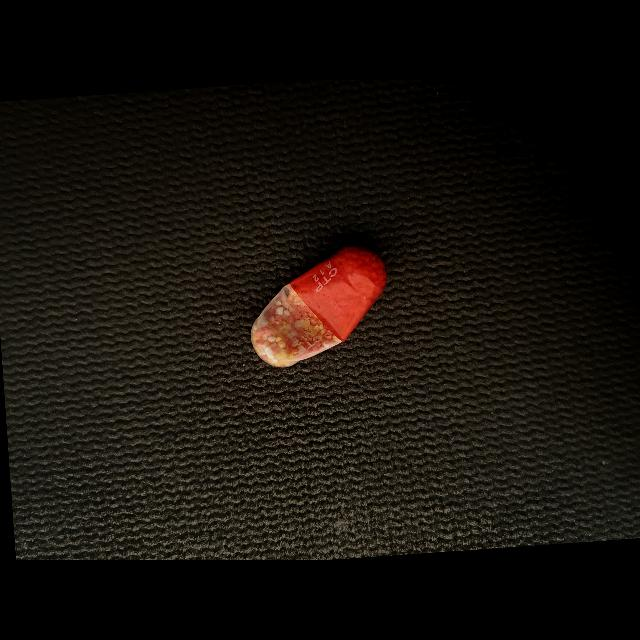Defective Capsule: (251, 246, 387, 367)
